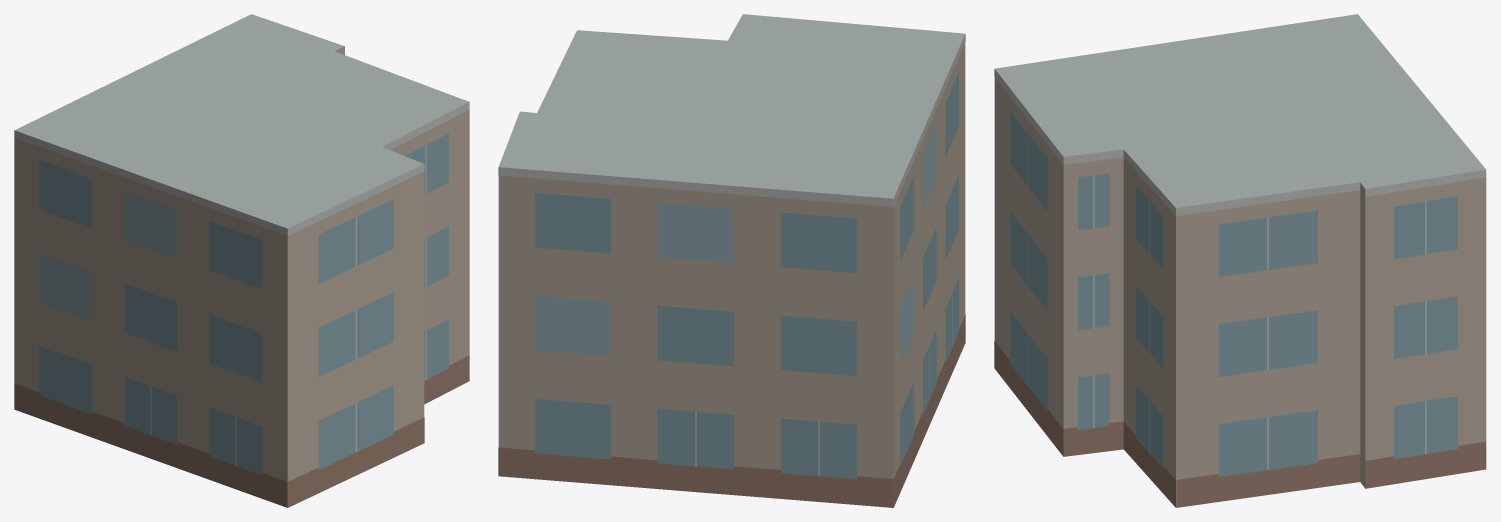
The model's file is survey-upis-32673033.glb.
3 views of the same model, side by side, from view 1: azimuth 30°, elevation 25°; view 2: azimuth 150°, elevation 25°; view 3: azimuth 270°, elevation 25° (orthographic). The views are drawn at different scales.
Visible parts, largest first — view 1: survey-upis-32673033.tmp; view 2: survey-upis-32673033.tmp; view 3: survey-upis-32673033.tmp.
Part boxes in pixels (x1=…): survey-upis-32673033.tmp: x1=14, y1=14, x2=469, y2=507; survey-upis-32673033.tmp: x1=498, y1=14, x2=965, y2=507; survey-upis-32673033.tmp: x1=994, y1=14, x2=1486, y2=507.
Bounding box in the file's own units: 12.72 × 9.15 × 13.62.
